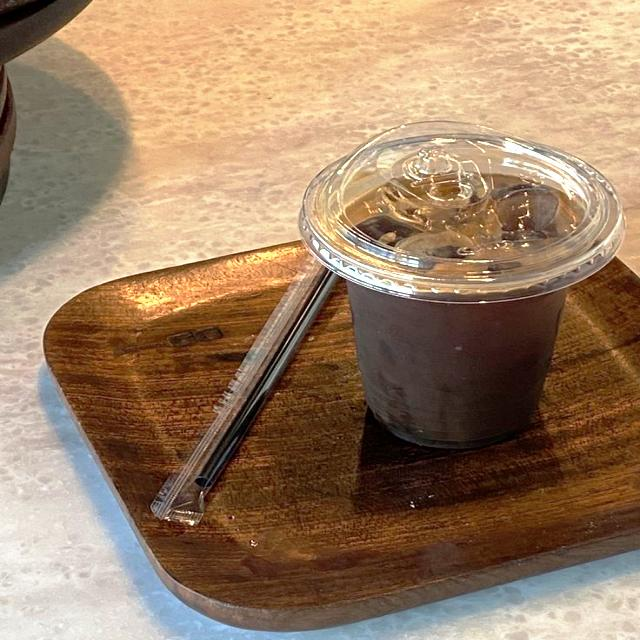drink: (295, 117, 625, 453)
